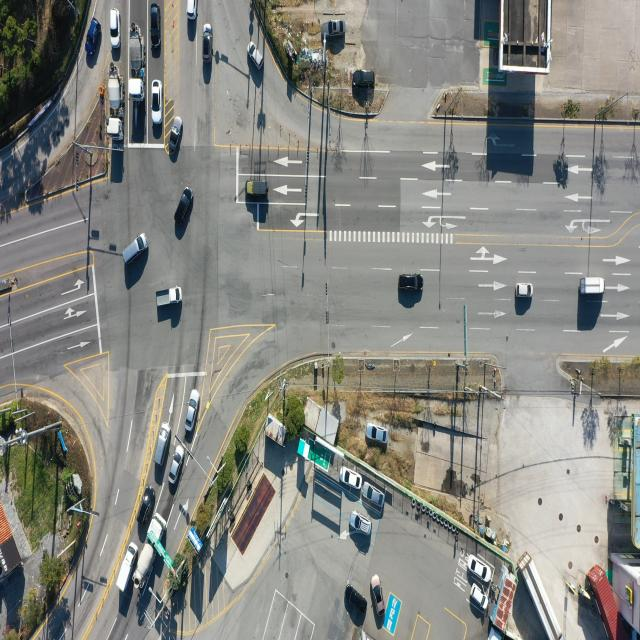car: (344, 581, 368, 616), (124, 232, 148, 265), (176, 187, 194, 227), (156, 422, 172, 466), (370, 572, 386, 616), (169, 443, 186, 483), (138, 489, 154, 527), (184, 390, 198, 432), (471, 556, 492, 583), (86, 19, 101, 56), (150, 78, 162, 124), (169, 115, 183, 154), (350, 510, 372, 534), (363, 483, 384, 508), (341, 466, 363, 489), (471, 584, 489, 610), (367, 423, 389, 443), (248, 40, 263, 69), (398, 274, 422, 292), (150, 4, 159, 50), (352, 69, 375, 86), (246, 180, 268, 197), (110, 11, 120, 48), (204, 24, 213, 62), (326, 20, 346, 37), (186, 0, 198, 21), (517, 283, 534, 297)
medium_truck: (524, 559, 564, 640), (134, 510, 167, 592), (127, 26, 146, 100), (109, 74, 125, 136)
small_truck: (118, 542, 139, 593), (157, 286, 183, 305), (581, 278, 606, 296)
